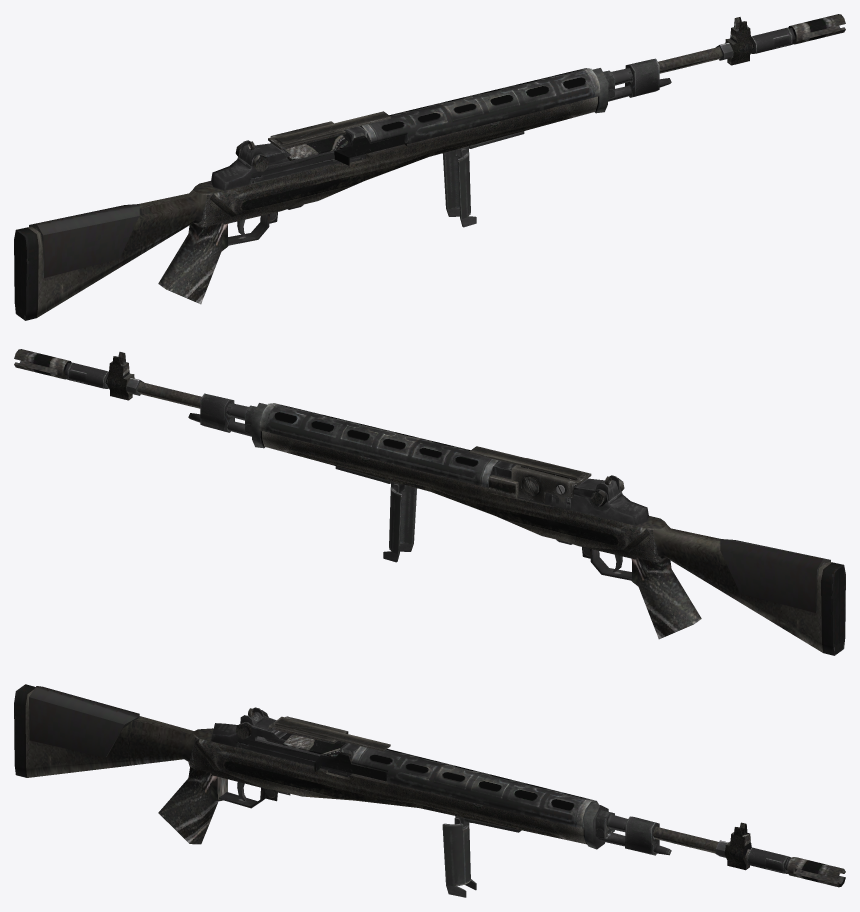
The model's file is m14_rotated_full.fbx.
3 renders of one model, top to bottom at view 1: azimuth 30°, elevation 25°; view 2: azimuth 150°, elevation 25°; view 3: azimuth 330°, elevation 25°, orthographic.
Parts seen in each view (by area): view 1: t6_wpn_ar_m14_world_LOD_0; view 2: t6_wpn_ar_m14_world_LOD_0; view 3: t6_wpn_ar_m14_world_LOD_0.
Boxes of the visible parts, bbox=[...] form: t6_wpn_ar_m14_world_LOD_0: bbox=[14, 14, 845, 320]; t6_wpn_ar_m14_world_LOD_0: bbox=[14, 349, 845, 655]; t6_wpn_ar_m14_world_LOD_0: bbox=[14, 684, 845, 897].
Bounding box in the file's own units: 10675 × 1875 × 636.
